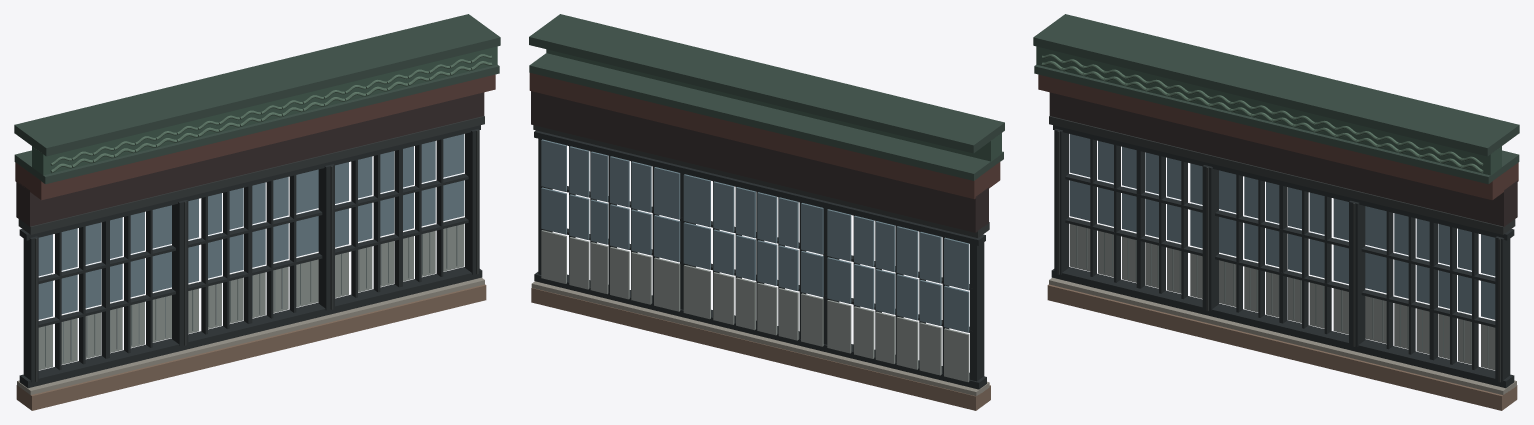
Rendered from yangpu-pingliang-629-upper-window-band-web.glb.
3 views of the same model, side by side, from view 1: azimuth 30°, elevation 25°; view 2: azimuth 150°, elevation 25°; view 3: azimuth 330°, elevation 25° (orthographic). The views are drawn at different scales.
Visible parts, largest first — view 1: 平凉路629号临街二层钢窗与绿色檐饰; view 2: 平凉路629号临街二层钢窗与绿色檐饰; view 3: 平凉路629号临街二层钢窗与绿色檐饰.
Boxes of the visible parts, box(x1,y1,x2,y2) form: 平凉路629号临街二层钢窗与绿色檐饰: box(14, 14, 500, 410); 平凉路629号临街二层钢窗与绿色檐饰: box(529, 14, 1004, 410); 平凉路629号临街二层钢窗与绿色檐饰: box(1033, 14, 1519, 410).
Size of the model in its own units: 4.19 by 2.4 by 0.51.
